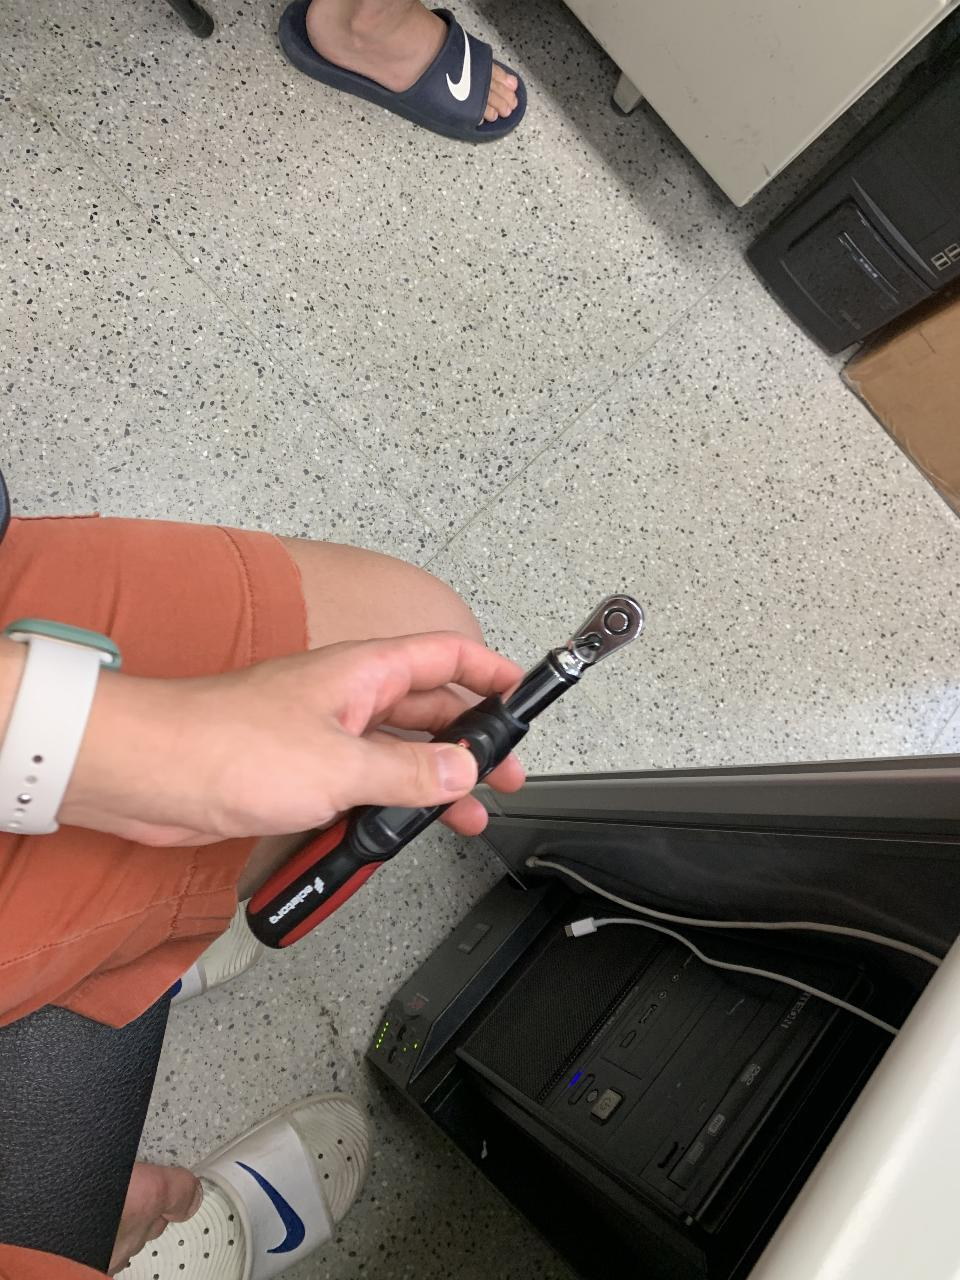Tool: (559, 589, 645, 685)
